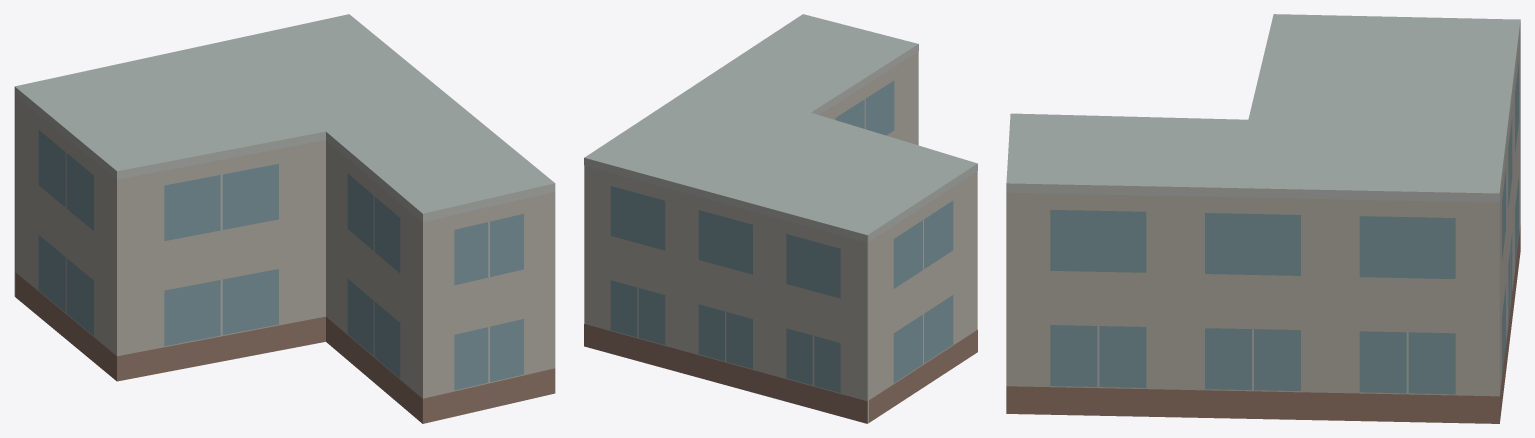
Rendered from survey-upis-32768219.glb.
3 views of the same model, side by side, from view 1: azimuth 30°, elevation 25°; view 2: azimuth 150°, elevation 25°; view 3: azimuth 270°, elevation 25° (orthographic). The views are drawn at different scales.
Parts seen in each view (by area): view 1: survey-upis-32768219.tmp; view 2: survey-upis-32768219.tmp; view 3: survey-upis-32768219.tmp.
Boxes of the visible parts, x1,y1,x2,y2 form: survey-upis-32768219.tmp: [14, 14, 555, 423]; survey-upis-32768219.tmp: [584, 14, 977, 423]; survey-upis-32768219.tmp: [1006, 14, 1520, 423].
Bounding box in the file's own units: 10.2 × 6.1 × 12.35.
